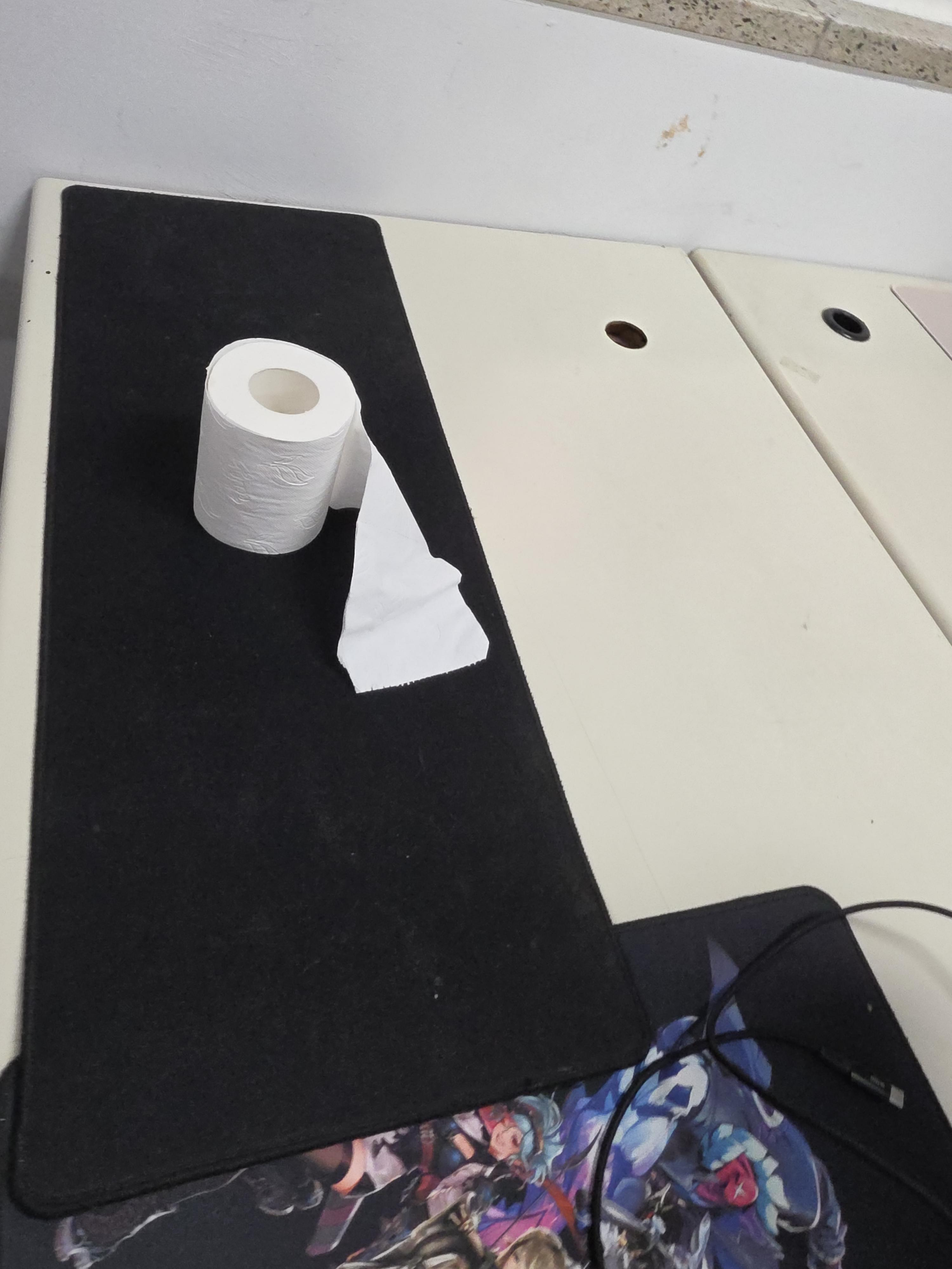tissue: (193, 338, 490, 694)
